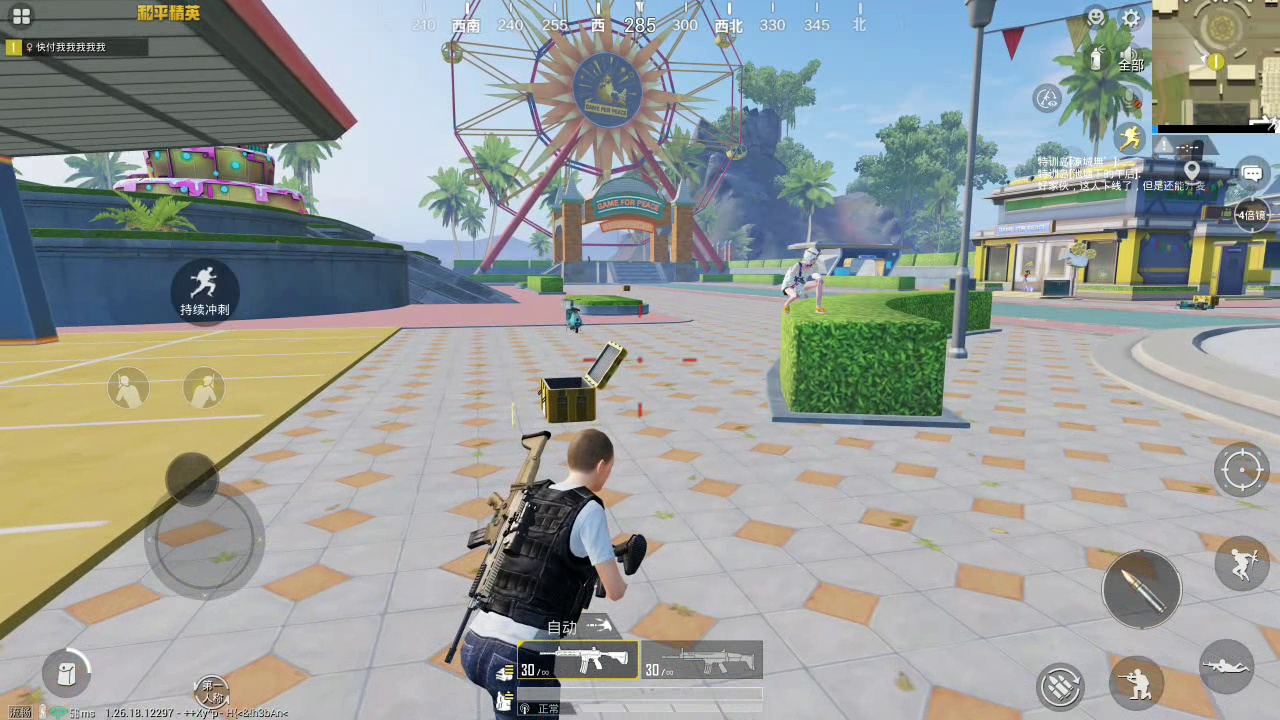enemy: (781, 247, 828, 316)
